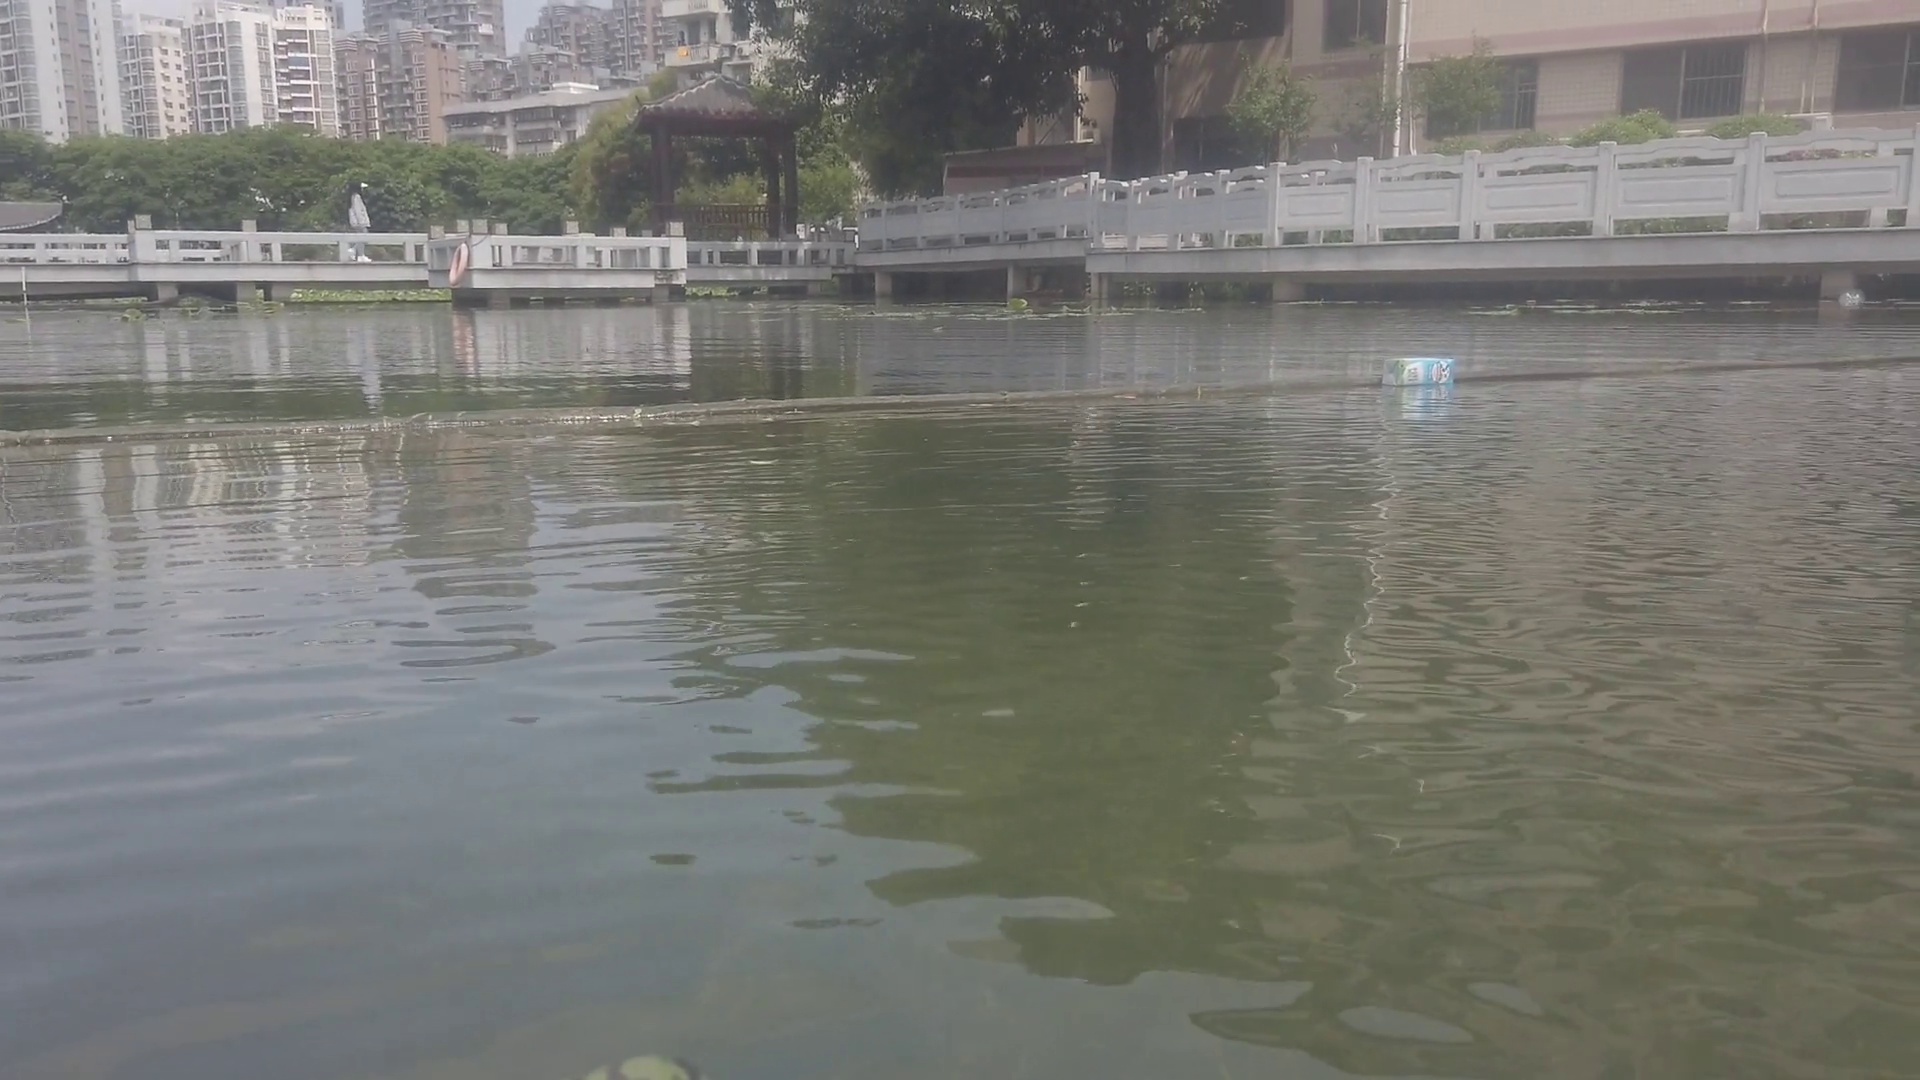carton: (1381, 355, 1464, 389)
plastic: (1832, 286, 1875, 306)
